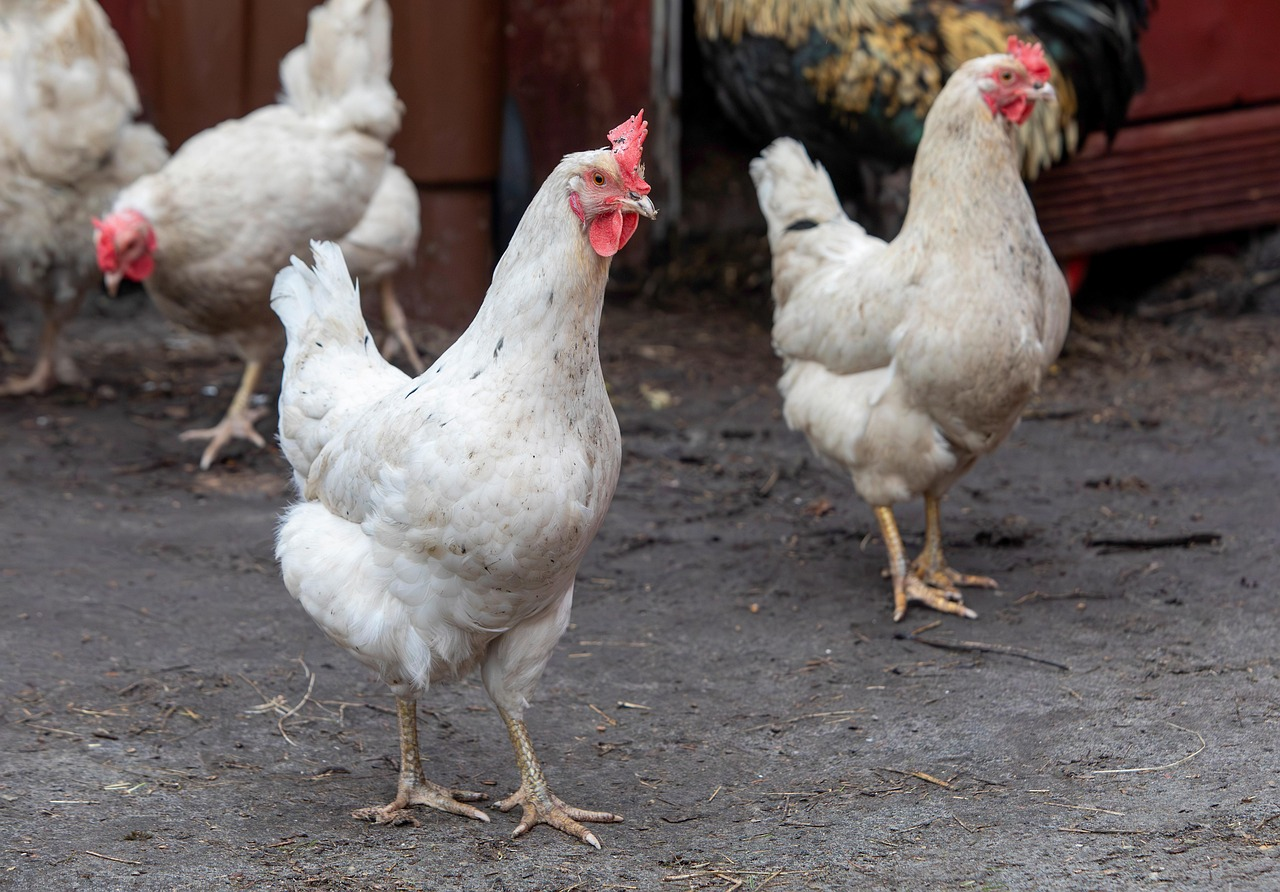chicken: (269, 128, 682, 852), (745, 49, 1087, 633)
